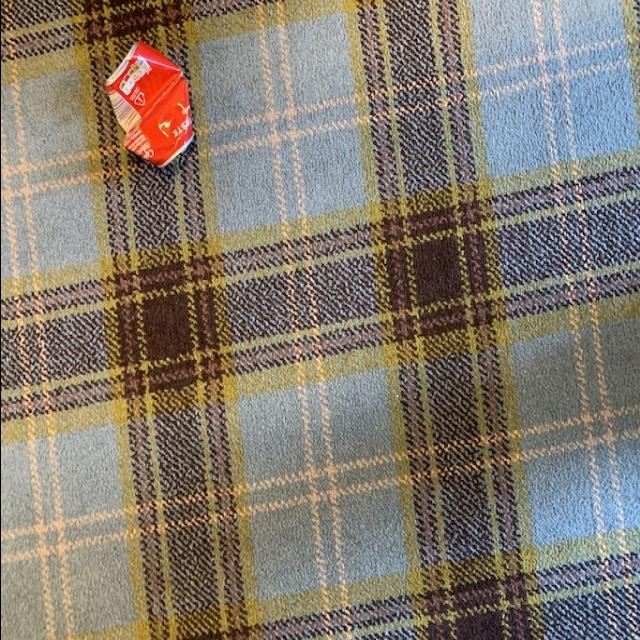Aluminum Can: (102, 0, 195, 171)
